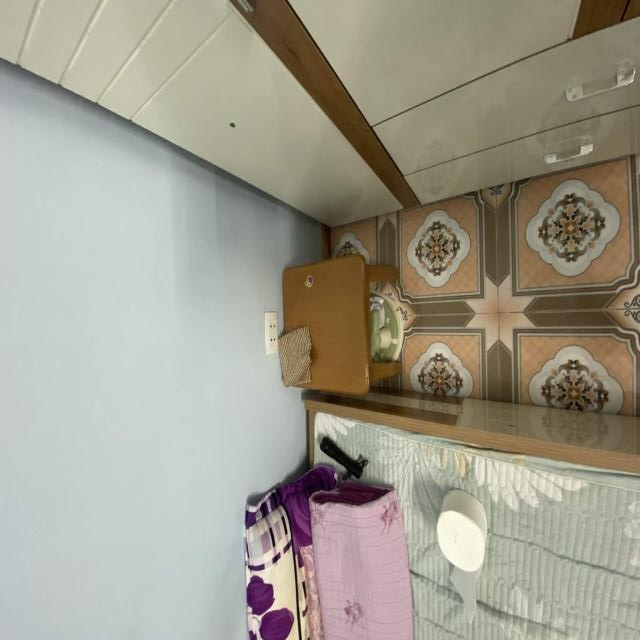outlet: (264, 312, 278, 356)
